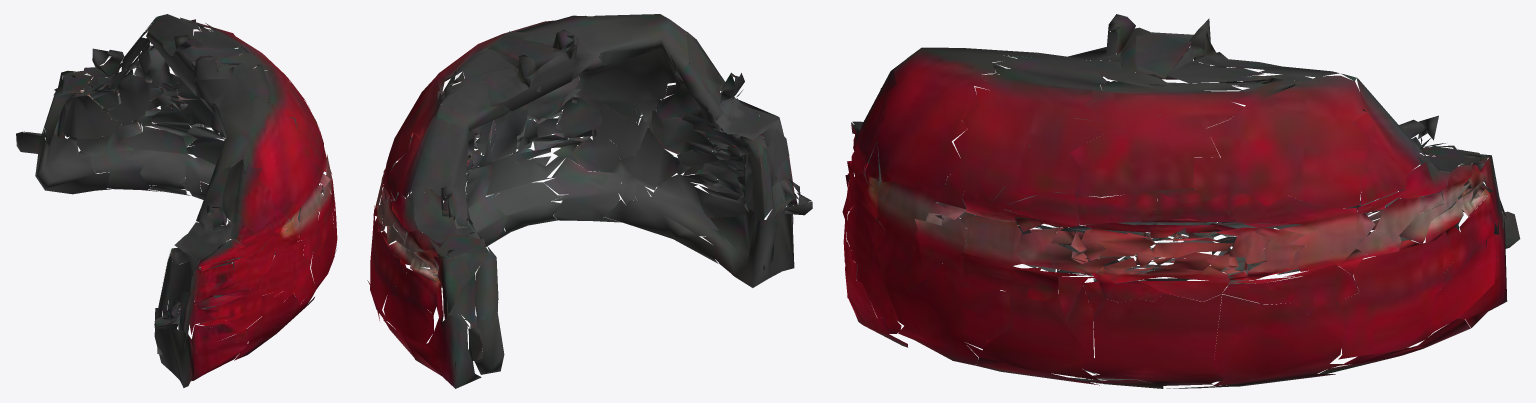
File: bavorak_taillight.glb
3 views of the same model, side by side, from view 1: azimuth 30°, elevation 25°; view 2: azimuth 150°, elevation 25°; view 3: azimuth 270°, elevation 25° (orthographic). The views are drawn at different scales.
Visible parts, largest first — view 1: tripo_node_0483f4b3-96db-489a-85cc-973d6681651d; view 2: tripo_node_0483f4b3-96db-489a-85cc-973d6681651d; view 3: tripo_node_0483f4b3-96db-489a-85cc-973d6681651d.
Part boxes in pixels (x1,y1,x2,y2): tripo_node_0483f4b3-96db-489a-85cc-973d6681651d: (16, 14, 337, 387); tripo_node_0483f4b3-96db-489a-85cc-973d6681651d: (367, 14, 812, 388); tripo_node_0483f4b3-96db-489a-85cc-973d6681651d: (842, 14, 1520, 388).
Size of the model in its own units: 0.6389 by 0.5885 by 1.
Materials: 1 (1 with a texture image).
